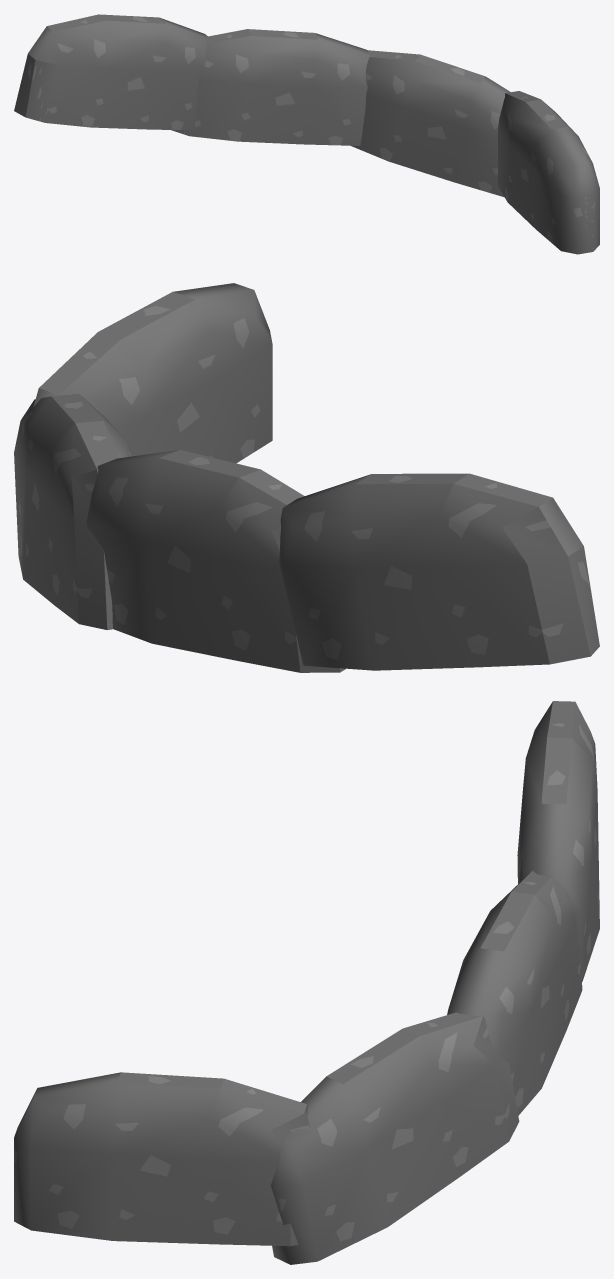
Rendered from dönen taş.fbx.
3 views of the same model, one above another, from view 1: azimuth 30°, elevation 25°; view 2: azimuth 150°, elevation 25°; view 3: azimuth 270°, elevation 25° (orthographic). The views are drawn at different scales.
Parts seen in each view (by area): view 1: Model; view 2: Model; view 3: Model.
Boxes of the visible parts, box(x1,y1,x2,y2) form: Model: box(14, 14, 599, 254); Model: box(14, 283, 599, 672); Model: box(14, 701, 599, 1264).
Bounding box in the file's own units: 316 × 134 × 252.
